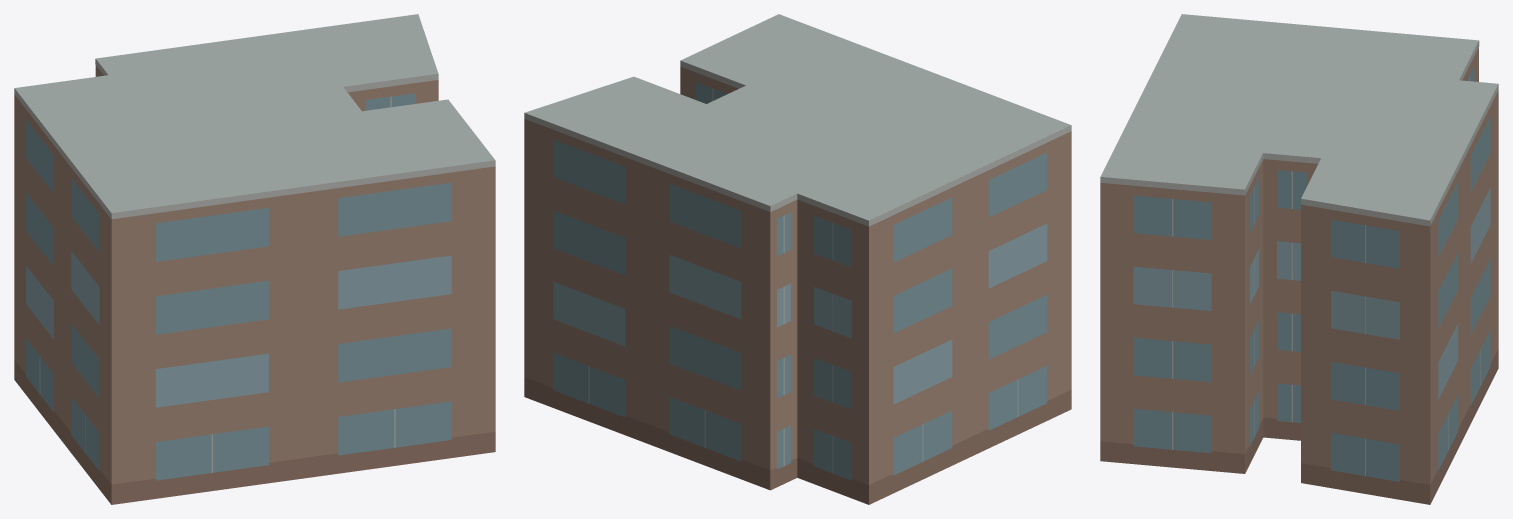
Rendered from survey-upis-32589431.glb.
3 views of the same model, side by side, from view 1: azimuth 30°, elevation 25°; view 2: azimuth 150°, elevation 25°; view 3: azimuth 270°, elevation 25° (orthographic). The views are drawn at different scales.
Parts seen in each view (by area): view 1: survey-upis-32589431.tmp; view 2: survey-upis-32589431.tmp; view 3: survey-upis-32589431.tmp.
Part boxes in pixels (x1,y1,x2,y2): survey-upis-32589431.tmp: (14,14,495,504); survey-upis-32589431.tmp: (524,14,1071,504); survey-upis-32589431.tmp: (1100,14,1498,504).
Size of the model in its own units: 18.24 by 11.7 by 14.87.
